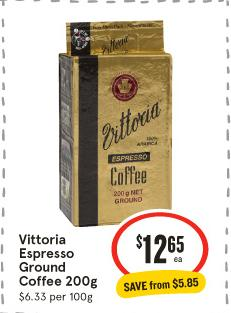description_block: (12, 228, 109, 290)
price_main: (120, 224, 205, 273)
product_image_block: (45, 13, 180, 230)
promo_text_block: (114, 272, 212, 297)
unit_price_block: (12, 288, 105, 308)
